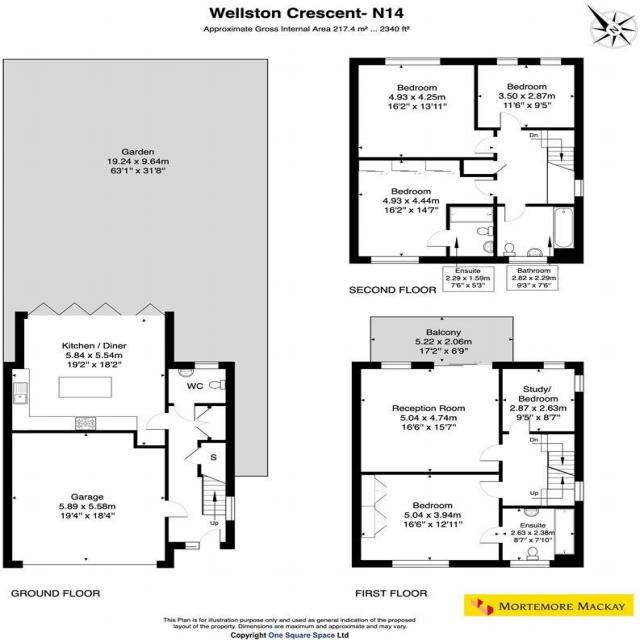DOOR: (498, 111, 523, 130), (145, 412, 170, 431), (503, 203, 526, 223), (479, 443, 503, 462), (507, 415, 531, 434), (426, 229, 450, 248), (478, 481, 503, 499), (473, 179, 498, 197), (173, 403, 196, 422), (479, 526, 503, 544), (474, 136, 498, 154)
ROOM: (2, 301, 174, 449), (351, 361, 503, 475), (349, 157, 498, 264), (349, 57, 497, 161), (351, 472, 503, 568), (474, 57, 584, 131), (498, 361, 584, 435)
WINDOW: (384, 57, 442, 66), (391, 560, 450, 568), (370, 256, 420, 264), (507, 256, 548, 265), (509, 560, 551, 568), (225, 495, 235, 522), (380, 361, 412, 369), (194, 361, 220, 370), (574, 481, 585, 502), (573, 179, 585, 198), (574, 374, 585, 393), (539, 57, 562, 66), (543, 361, 566, 369), (496, 58, 519, 66)
